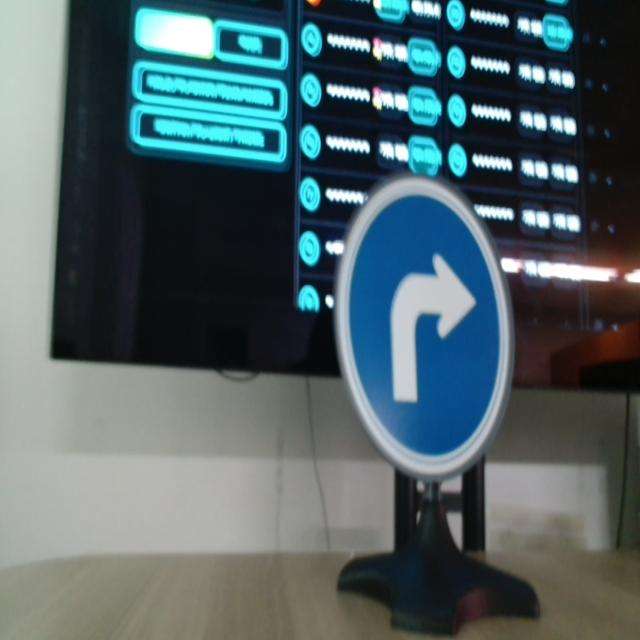right_dierection: (313, 143, 529, 487)
